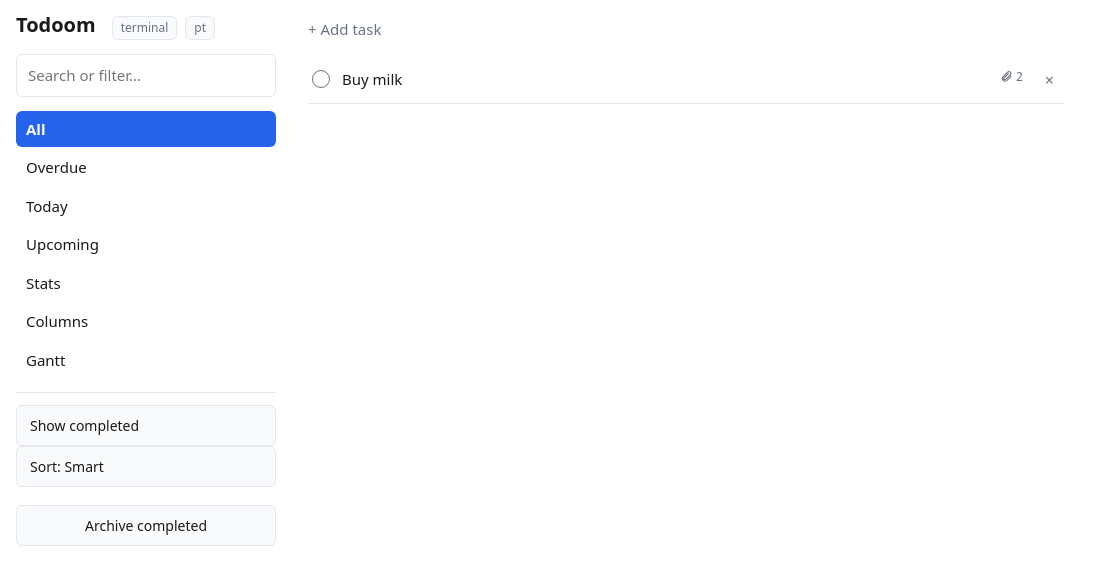
Test: attachments › offers a preview button for images and a link for other files
Step 1. Click the button with class "task__attach" → (1011,76), box [996, 68, 1027, 86]
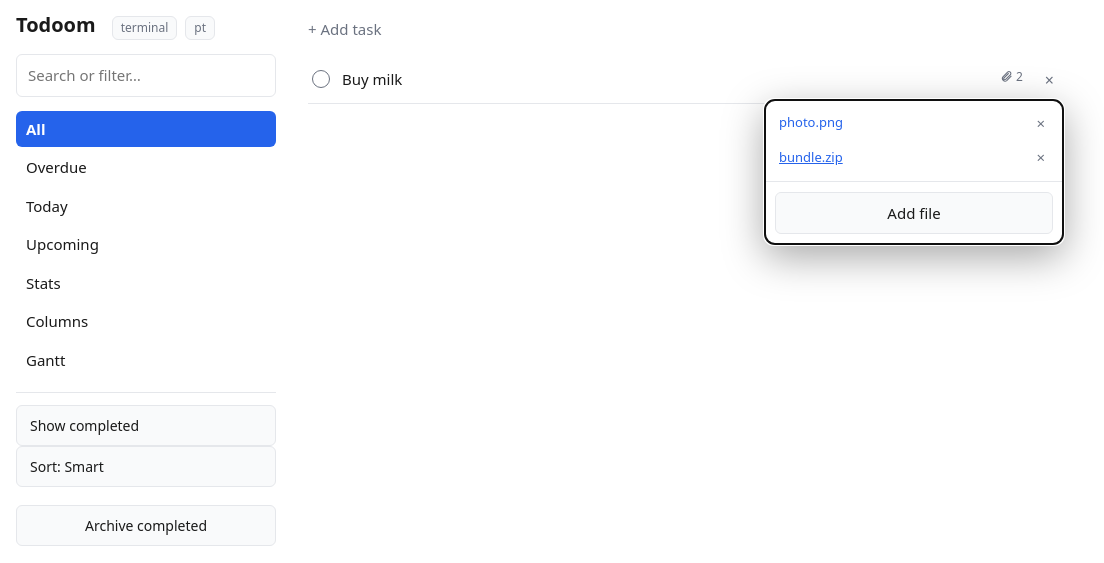
Now the button with class "attachment__preview" reads "photo.png", box [779, 113, 843, 132]
Now the link with class "attachment__link" reads "bundle.zip", box [779, 148, 843, 167]
